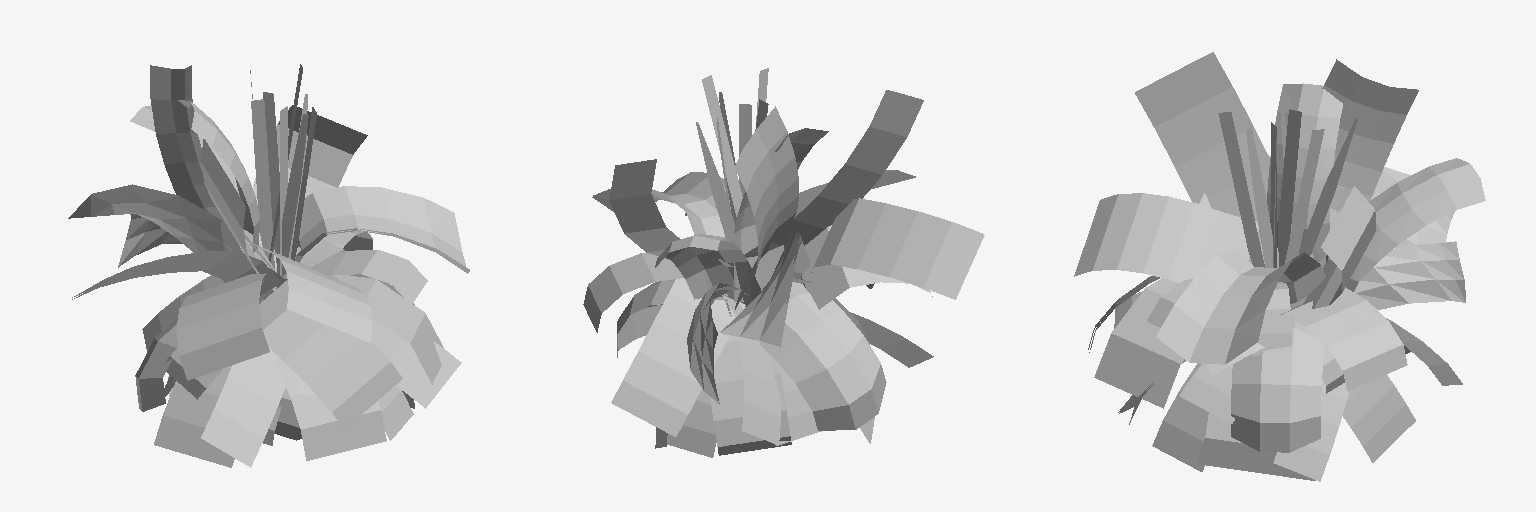
The model's file is bushes04_02.obj.
3 views of the same model, side by side, from view 1: azimuth 30°, elevation 25°; view 2: azimuth 150°, elevation 25°; view 3: azimuth 270°, elevation 25° (orthographic).
Parts seen in each view (by area): view 1: bushes04_02; view 2: bushes04_02; view 3: bushes04_02.
Part boxes in pixels (bbox=[...]): bushes04_02: bbox=[68, 64, 469, 467]; bushes04_02: bbox=[583, 68, 984, 457]; bushes04_02: bbox=[1074, 52, 1485, 481].
Bounding box in the file's own units: 456 × 417 × 434.